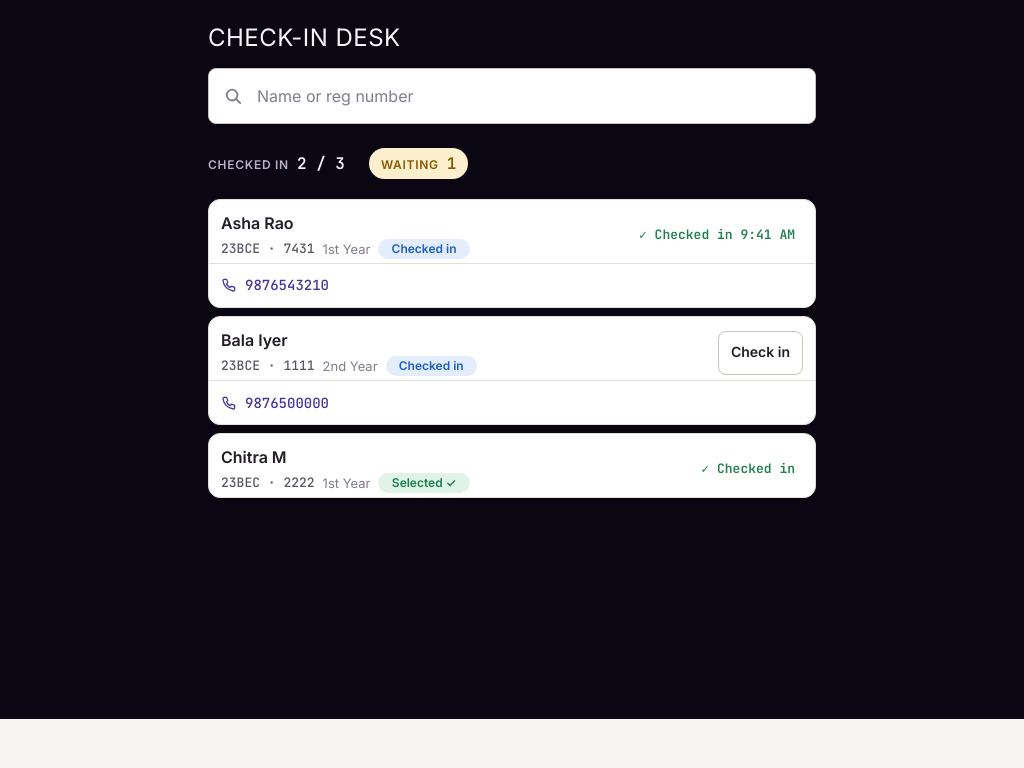
Test: Desk check-in action (the ONE action) › checked-in rows wear the quiet state; tapping asks before marking not arrived
Click the button "✓ Checked in 9:41 AM".
click(717, 235)  # box [631,213,803,257]
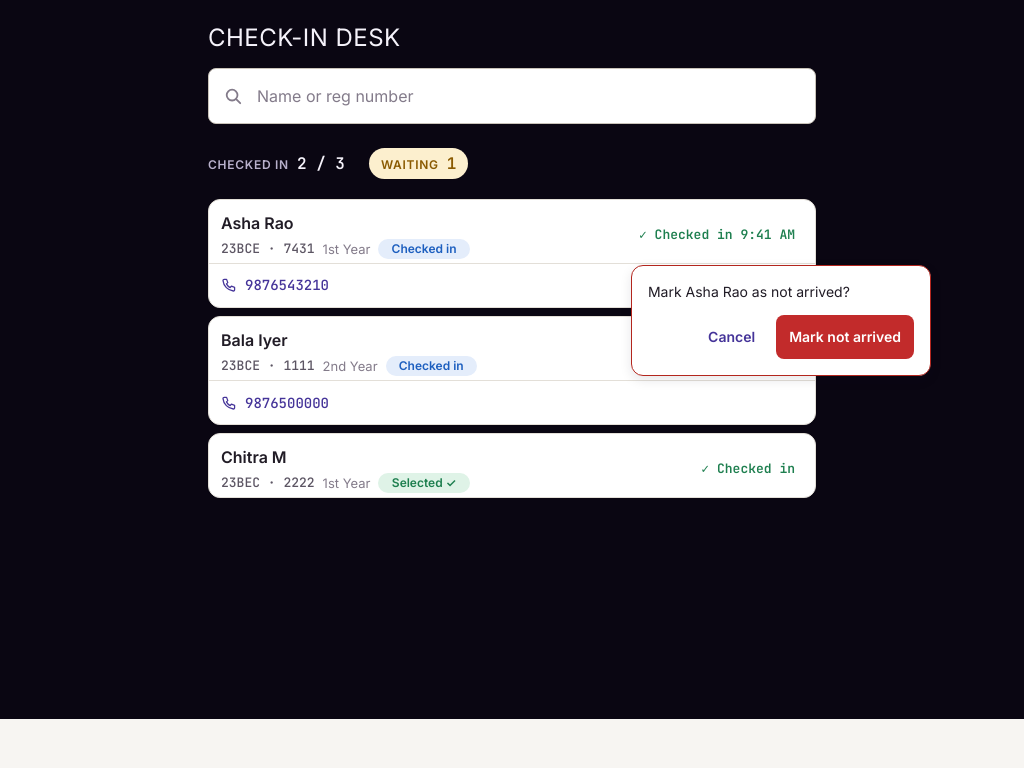
Expected: the text "Mark Asha Rao as not arrived?" is shown, [648,283,850,300]
Click the button "Mark not arrived".
click(845, 337)  # box [776,315,914,359]
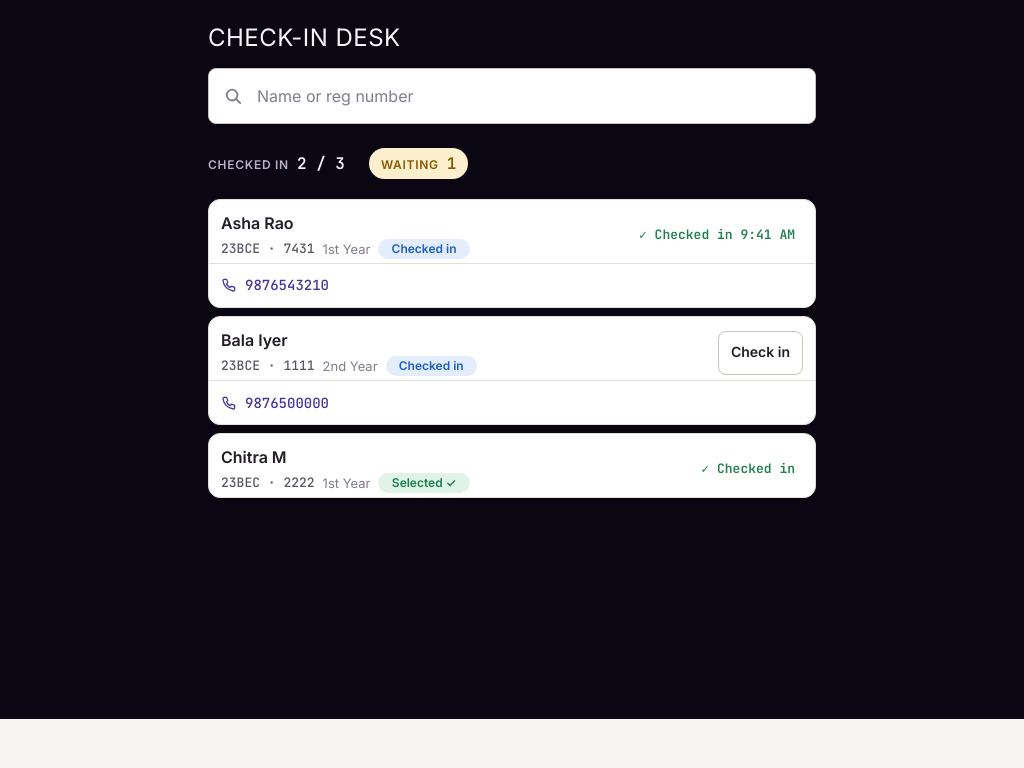
Expected: the text "Mark Asha Rao as not arrived?" is gone
